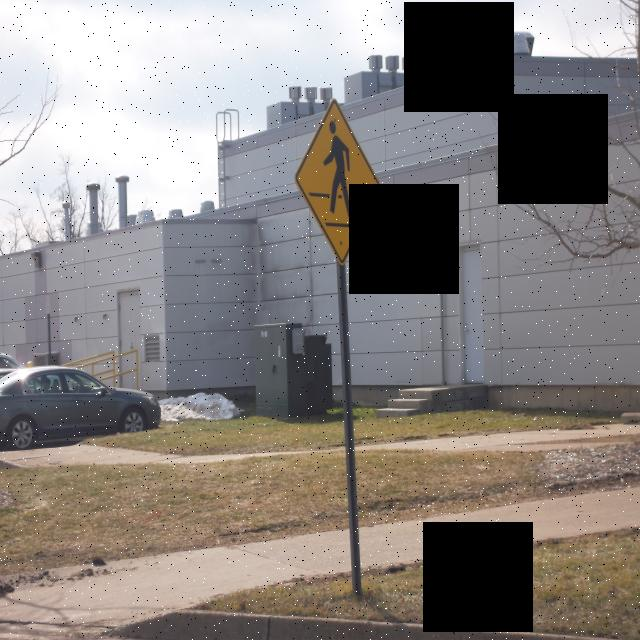warning: (296, 97, 379, 266)
